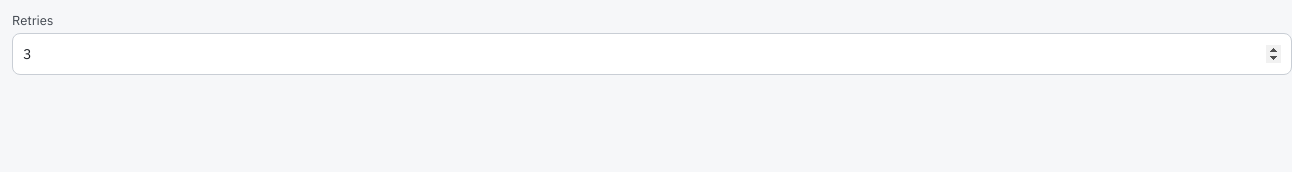
Test case: NumberField › keeps an empty or out-of-range entry visible and marked, without reporting it, even after leaving the field
Later steps or results of the test are not shown.
Clear the number field at (652, 54), box [23,35,1281,73]
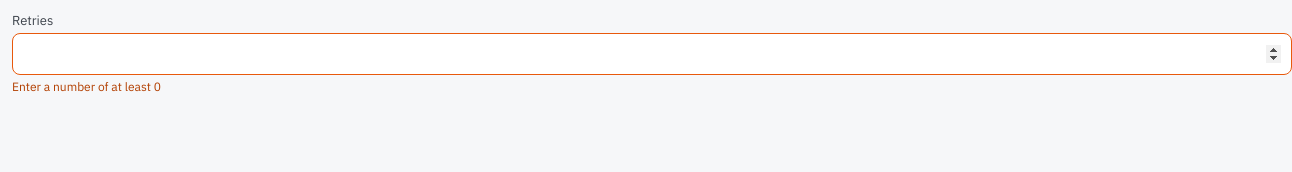
Expected: the number field is marked as invalid
Type "-2" into the number field at (652, 54), box [23,35,1281,73]
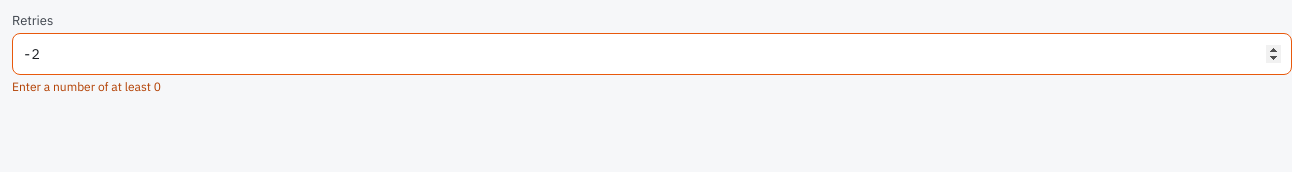
Expected: the number field is marked as invalid
Leave the number field, box [23,35,1281,73]
Expected: the number field is marked as invalid, [23,35,1281,73]
